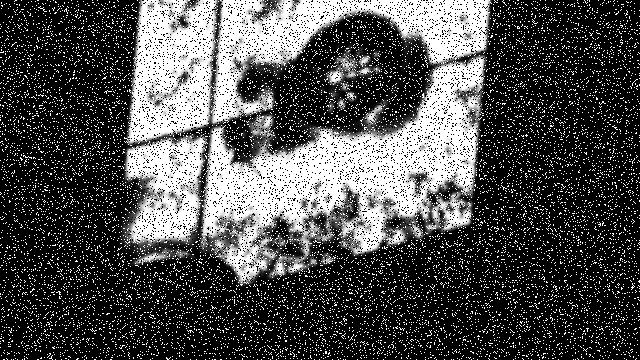pot: (289, 10, 402, 128)
